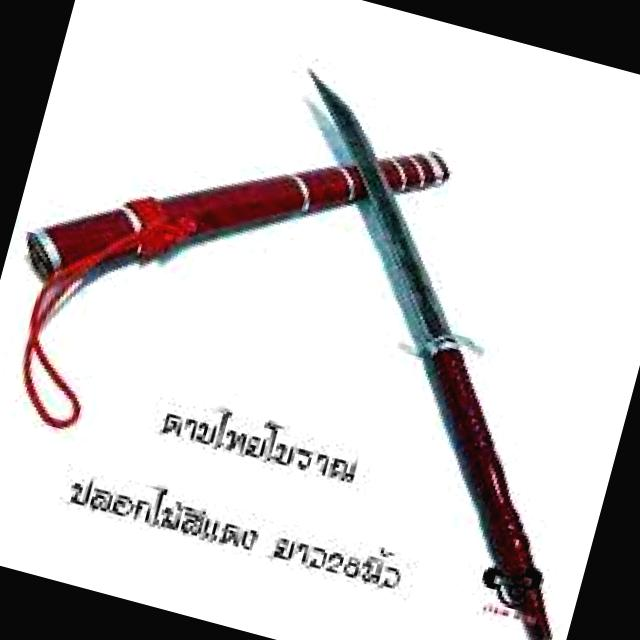long sword: (176, 61, 640, 640)
